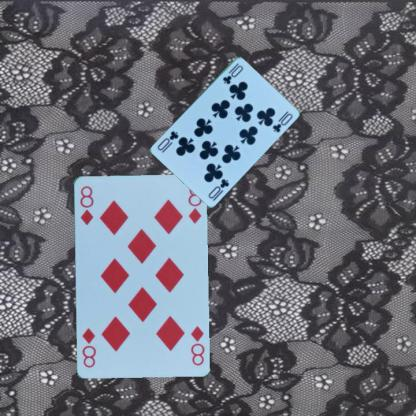10c: (220, 60, 245, 86), (206, 176, 230, 200)
8d: (77, 183, 95, 226), (188, 323, 206, 366)
